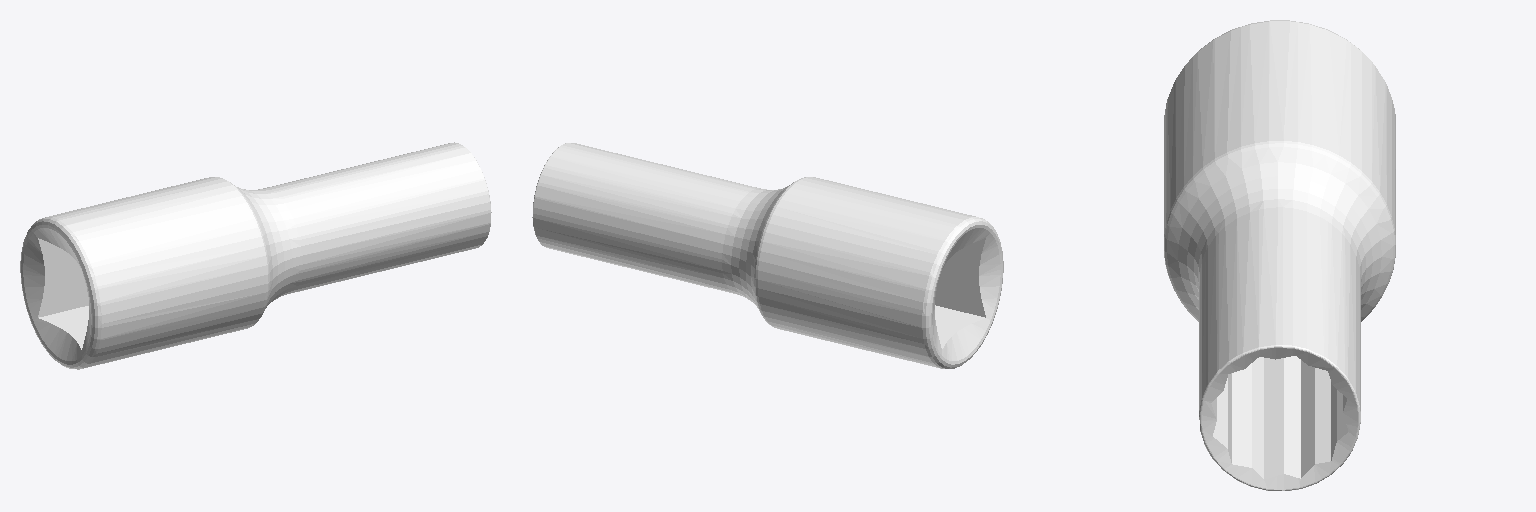
robot.urdf — M8_sleeve:
<?xml version="1.0" encoding="utf-8"?>
<!-- This URDF was automatically created by SolidWorks to URDF Exporter! Originally created by [author] ([email redacted]) 
     Commit Version: 1.6.0-4-g7f85cfe  Build Version: 1.6.7995.38578
     For more information, please see http://wiki.ros.org/sw_urdf_exporter -->
<robot
  name="M8_sleeve">
  <link
    name="M8_sleeve_base_link">
    <inertial>
      <origin
        xyz="-0.00074003 1.5829E-17 -2.6151E-16"
        rpy="0 0 0" />
      <mass
        value="0.010747" />
      <inertia
        ixx="8.5579E-07"
        ixy="-4.1281E-21"
        ixz="6.8952E-20"
        iyy="3.5699E-06"
        iyz="0"
        izz="3.5699E-06" />
    </inertial>
    <visual>
      <origin
        xyz="0 0 0"
        rpy="0 0 0" />
      <geometry>
        <mesh
          filename="package://M8_sleeve/meshes/M8_sleeve_base_link.STL" />
      </geometry>
      <material
        name="">
        <color
          rgba="1 1 1 1" />
      </material>
    </visual>
    <collision>
      <origin
        xyz="0 0 0"
        rpy="0 0 0" />
      <geometry>
        <mesh
          filename="package://M8_sleeve/meshes/M8_sleeve_base_link.STL" />
      </geometry>
    </collision>
  </link>
</robot>

--- Render facts (derived) ---
3 views of the same robot in one strip: view 1: azimuth 30°, elevation 25°; view 2: azimuth 150°, elevation 25°; view 3: azimuth 270°, elevation 25° (orthographic).
Robot: M8_sleeve — 1 links, 0 joints (none); root link M8_sleeve_base_link; default pose: every joint at zero.
Visible links, largest first — view 1: M8_sleeve_base_link; view 2: M8_sleeve_base_link; view 3: M8_sleeve_base_link.
Link boxes in pixels (x1,y1,x2,y2): M8_sleeve_base_link: (20, 142, 491, 369); M8_sleeve_base_link: (532, 143, 1003, 368); M8_sleeve_base_link: (1164, 20, 1395, 490).
Bounding box of the posed robot: 0.0694 × 0.023 × 0.023 m (x, y, z).
1 mesh visuals loaded from 1 distinct referenced files (1 binary STL).